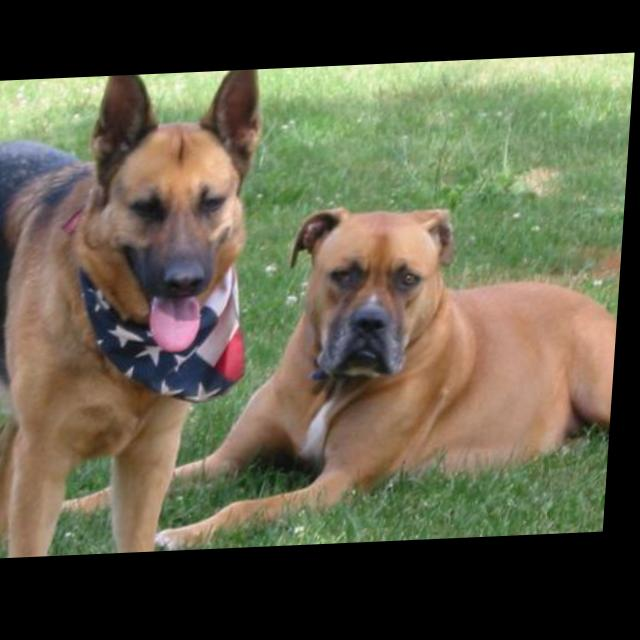bullmastiff: (62, 200, 629, 557)
other_dog_breed: (1, 72, 269, 561)
